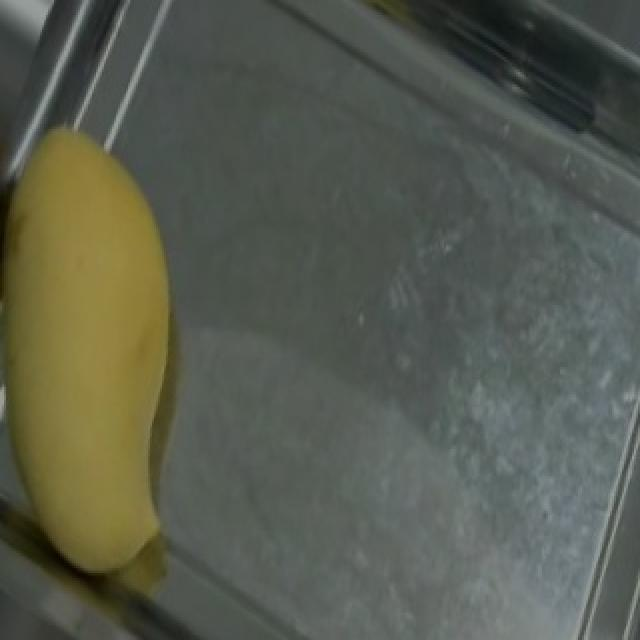fruit: (0, 94, 256, 484)
